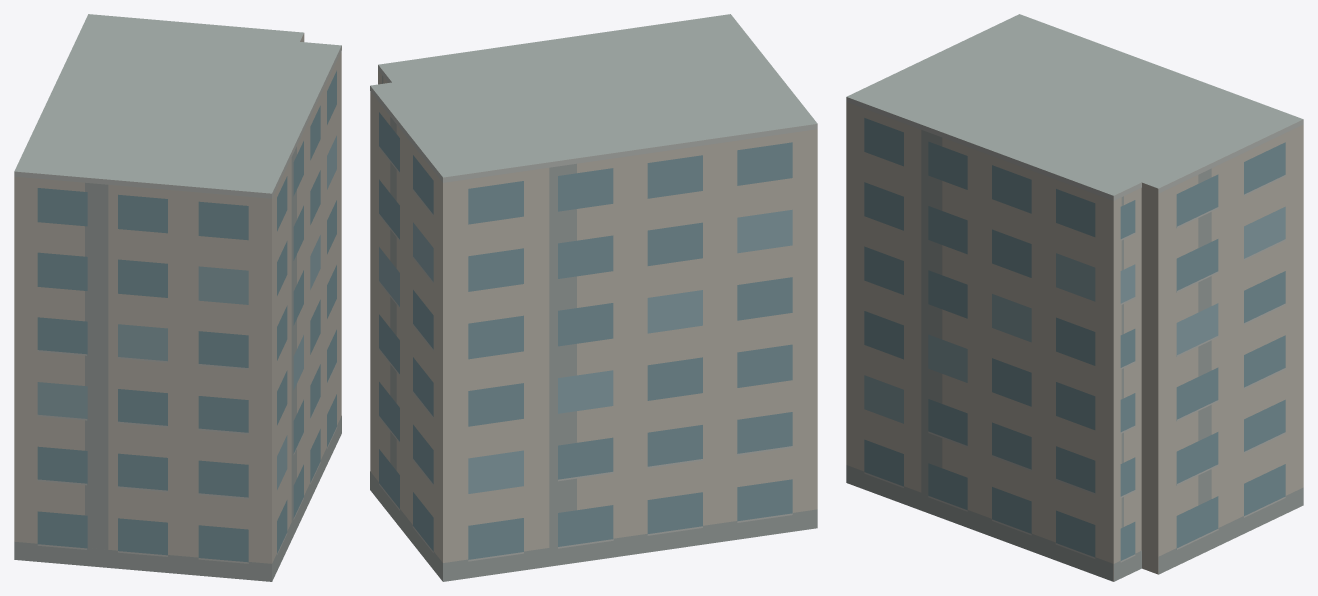
The model's file is survey-upis-32846788.glb.
3 renders of one model, left to right at view 1: azimuth 30°, elevation 25°; view 2: azimuth 150°, elevation 25°; view 3: azimuth 270°, elevation 25°, orthographic. The views are drawn at different scales.
Visible parts, largest first — view 1: survey-upis-32846788.tmp; view 2: survey-upis-32846788.tmp; view 3: survey-upis-32846788.tmp.
Part boxes in pixels (x1,y1,x2,y2): survey-upis-32846788.tmp: (14,14,341,581); survey-upis-32846788.tmp: (370,14,817,581); survey-upis-32846788.tmp: (846,14,1303,581).
Size of the model in its own units: 18.5 by 18.3 by 19.65.
